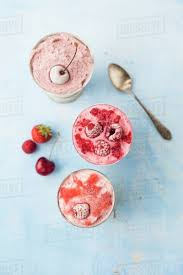ice-cream: (72, 105, 130, 163), (30, 34, 89, 90), (61, 173, 115, 228)
